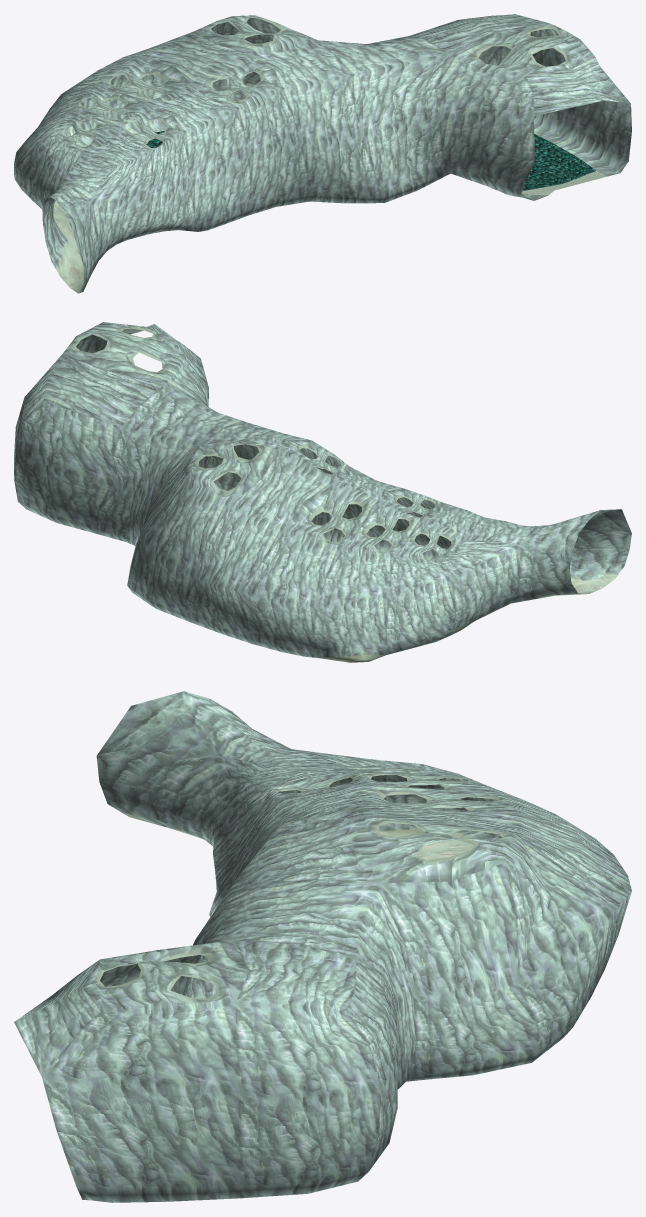
Rendered from TROLLHOLE02_PS-MAINCAVE.fbx.
The picture shows the model from 3 angles, top to bottom: view 1: azimuth 30°, elevation 25°; view 2: azimuth 150°, elevation 25°; view 3: azimuth 270°, elevation 25°; orthographic projection. The views are drawn at different scales.
Visible parts, largest first — view 1: TROLLHOLE02_PS-MAINCAVE; view 2: TROLLHOLE02_PS-MAINCAVE; view 3: TROLLHOLE02_PS-MAINCAVE.
Boxes of the visible parts, x1=… form: TROLLHOLE02_PS-MAINCAVE: x1=14, y1=14, x2=631, y2=293; TROLLHOLE02_PS-MAINCAVE: x1=14, y1=322, x2=631, y2=662; TROLLHOLE02_PS-MAINCAVE: x1=14, y1=691, x2=631, y2=1202.
Size of the model in its own units: 397743 by 95108 by 261121.
10 materials, 10 textured.
